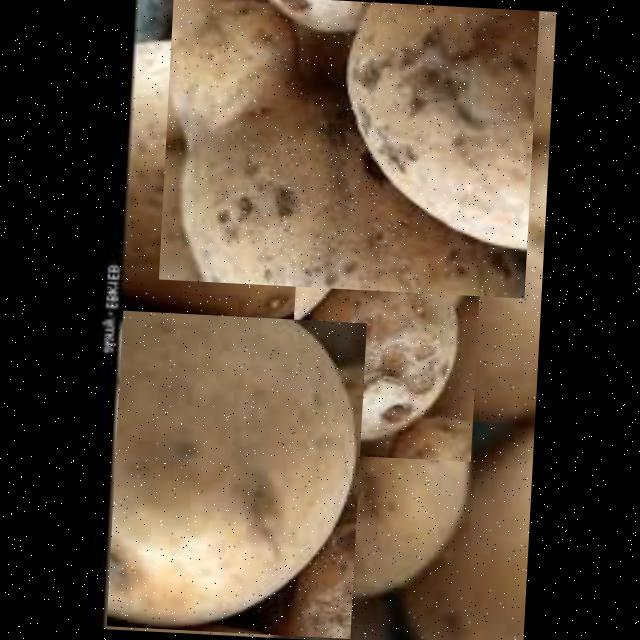Diseased-fungal potato: (157, 0, 538, 298), (106, 311, 366, 639), (115, 36, 378, 338), (286, 239, 481, 462)
